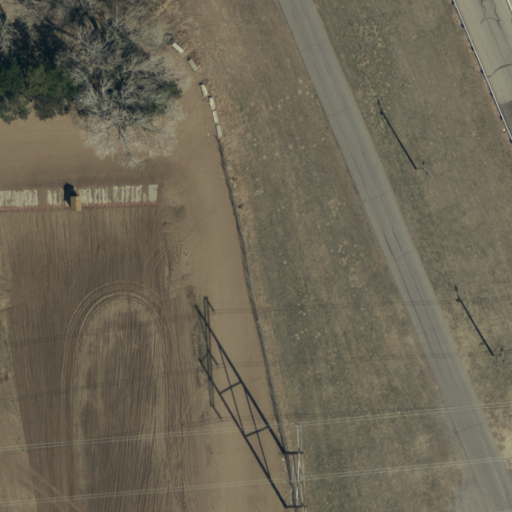DT: (409, 154, 434, 183), (487, 342, 509, 374)
TT: (269, 415, 313, 510)
